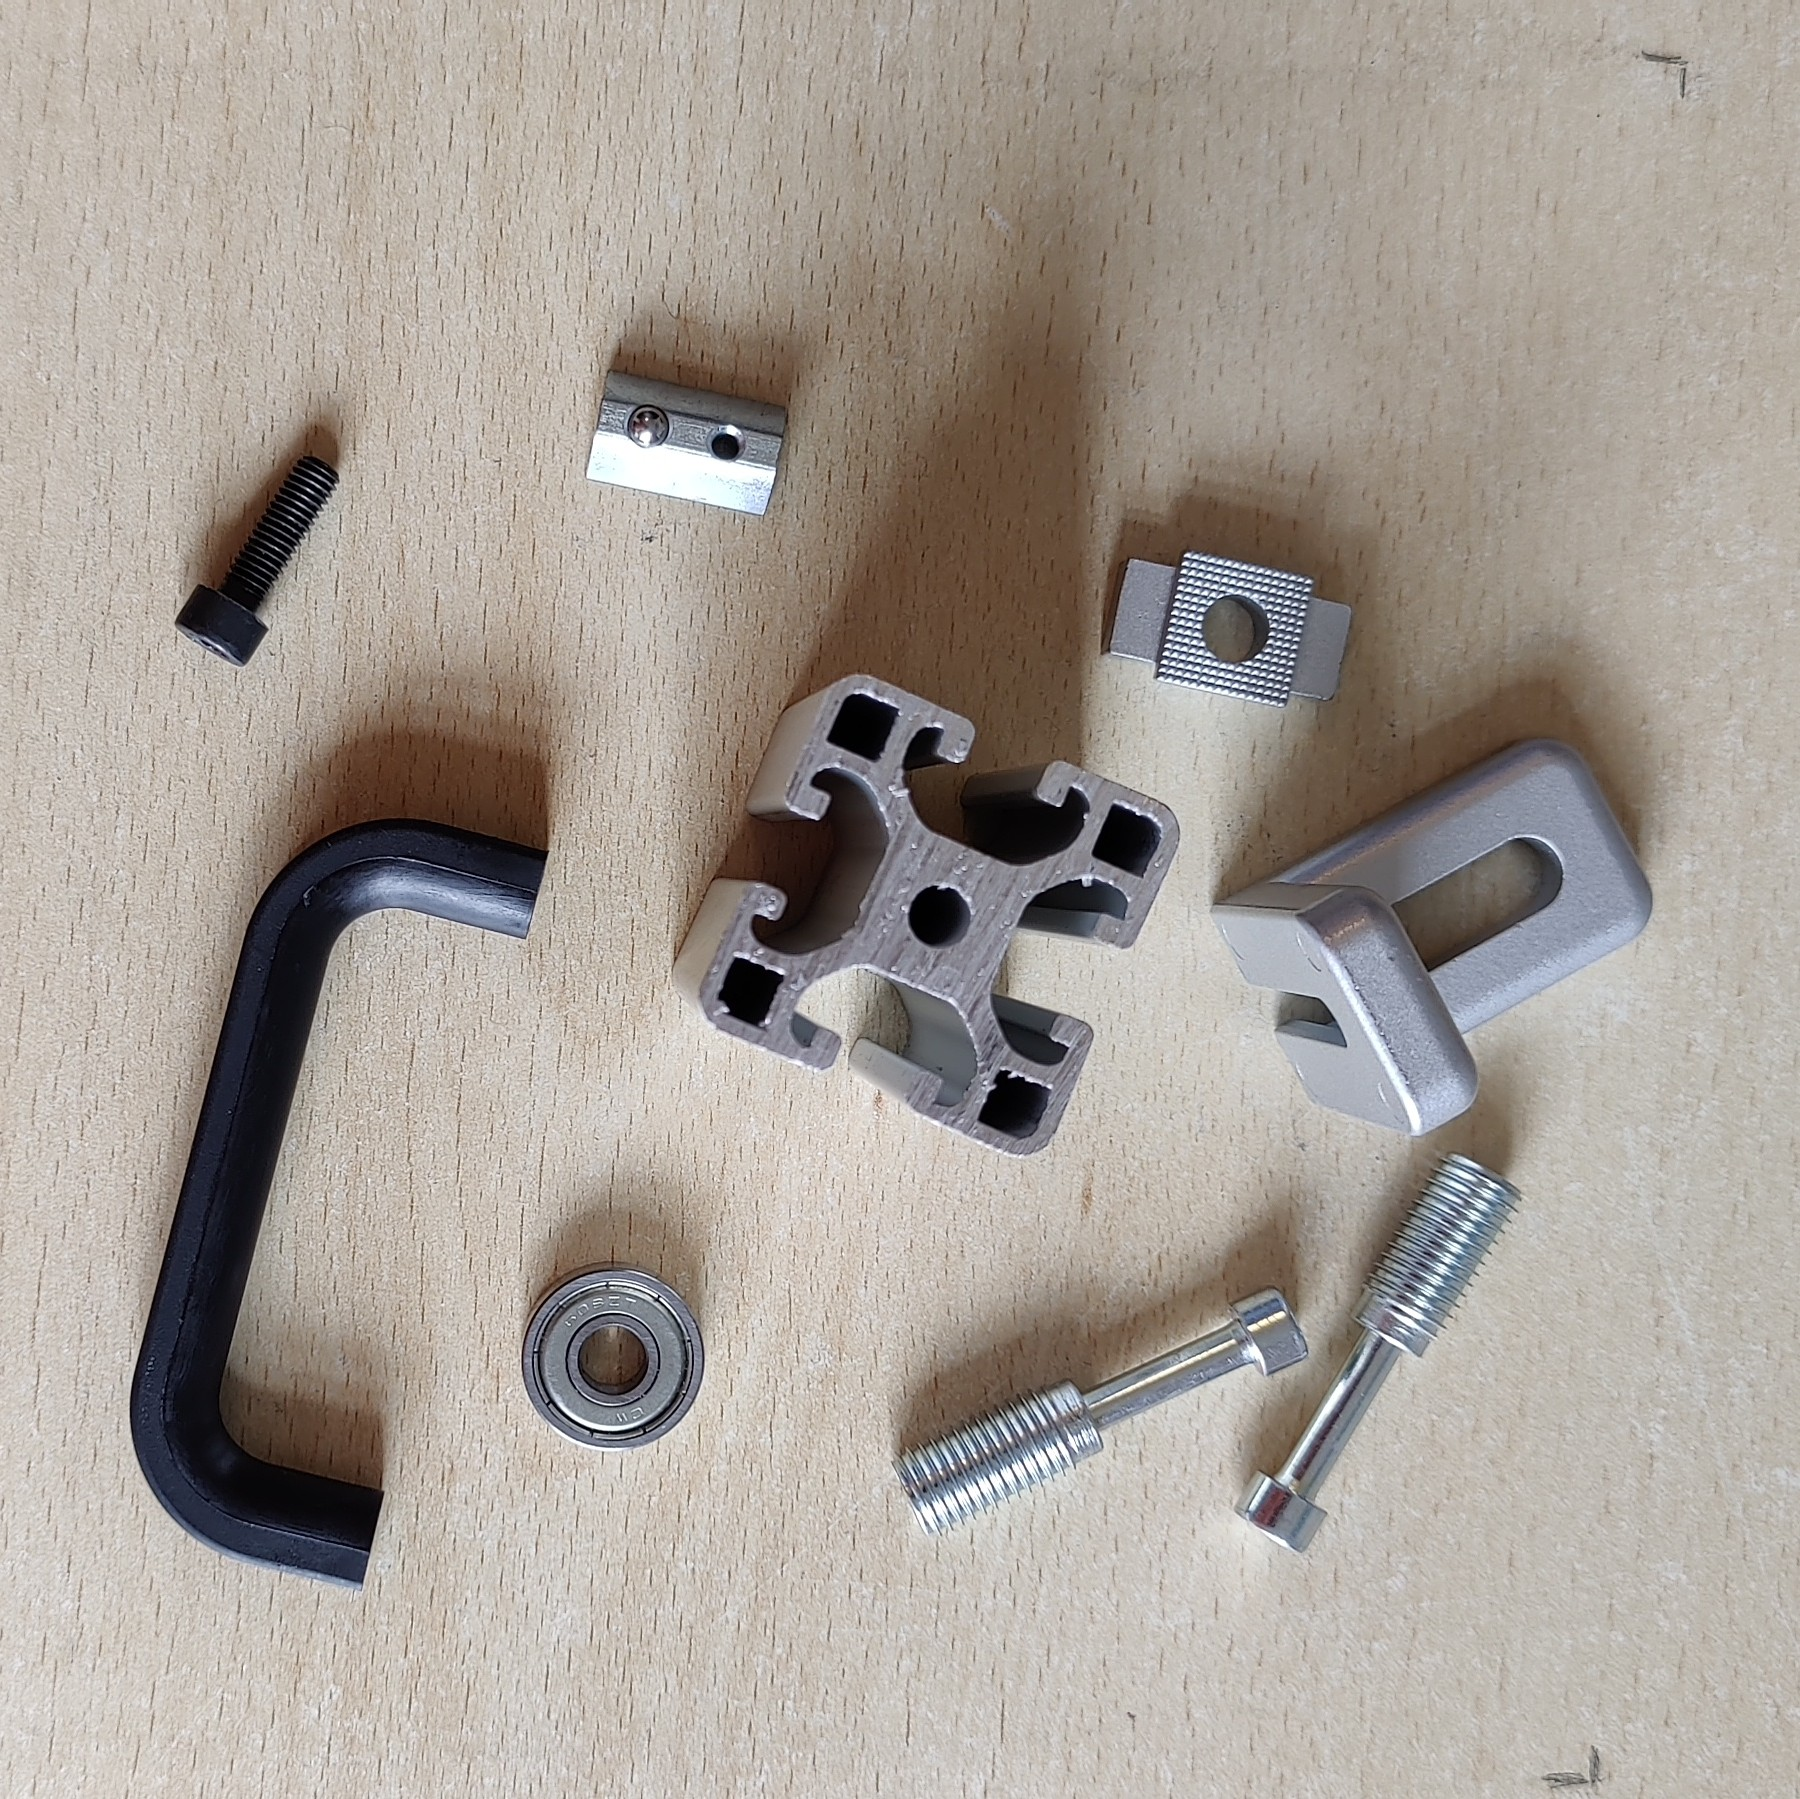Aluminium Extension: (669, 669, 1182, 1158)
Ball Bearing: (519, 1259, 705, 1456)
Multiwinkel: (1209, 733, 1657, 1133)
Pull Handle: (128, 812, 552, 1591)
Shoulder Socket Head Cap Screw: (1230, 1148, 1532, 1560), (889, 1282, 1313, 1537)
Socket Head Cap Screw: (173, 451, 343, 669)
T Nut Square: (1097, 545, 1359, 710)
T Spring Nut: (585, 367, 790, 519)
